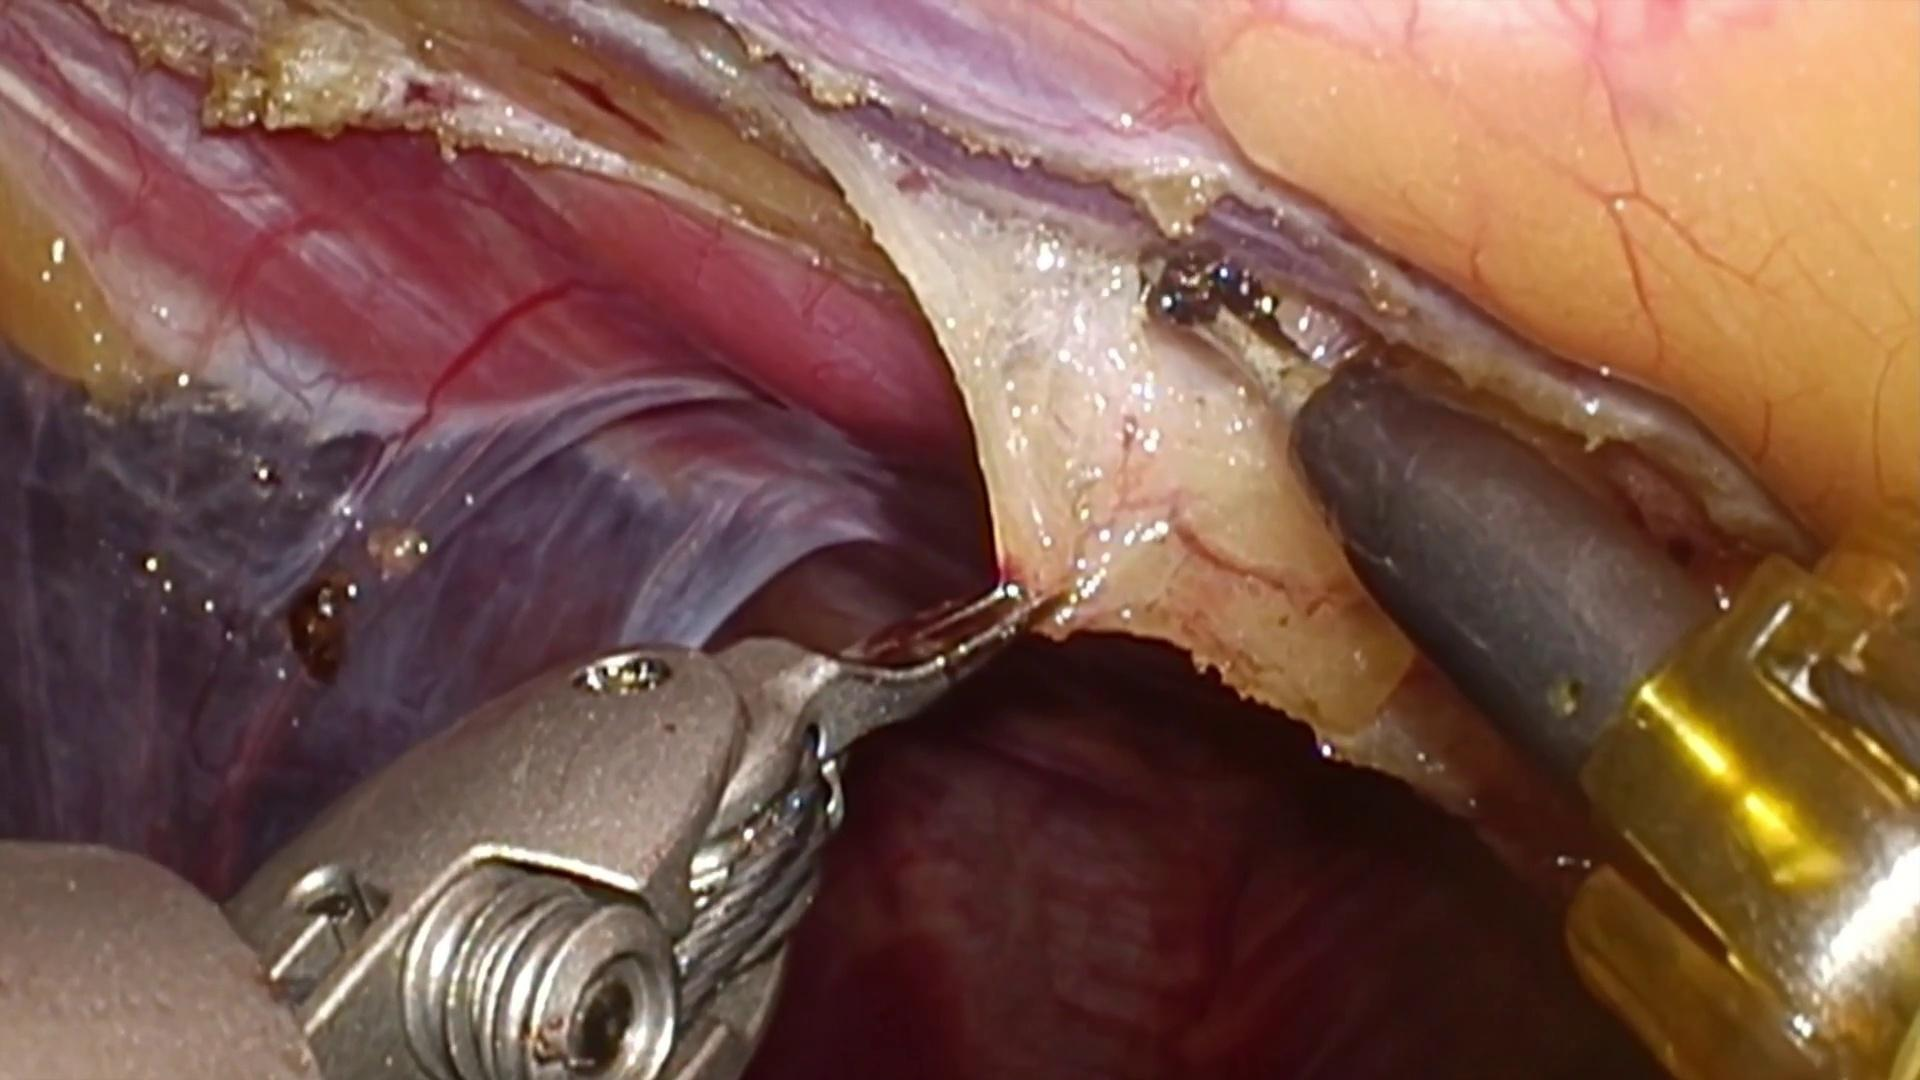Cautery_Spatula: (1160, 269, 1726, 794)
Debakey: (728, 567, 1072, 777)
